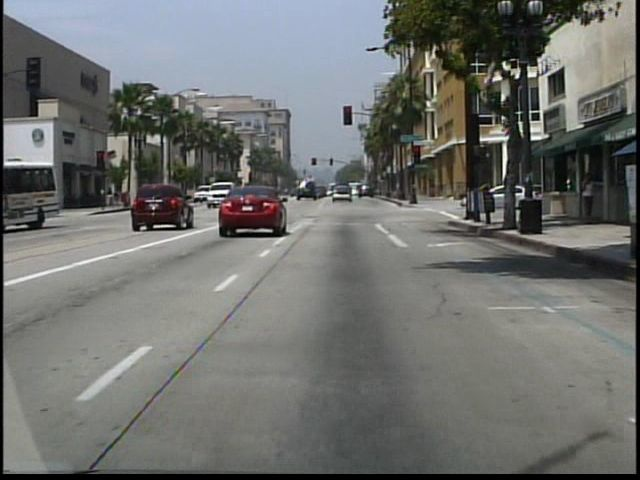person: (576, 168, 599, 226)
